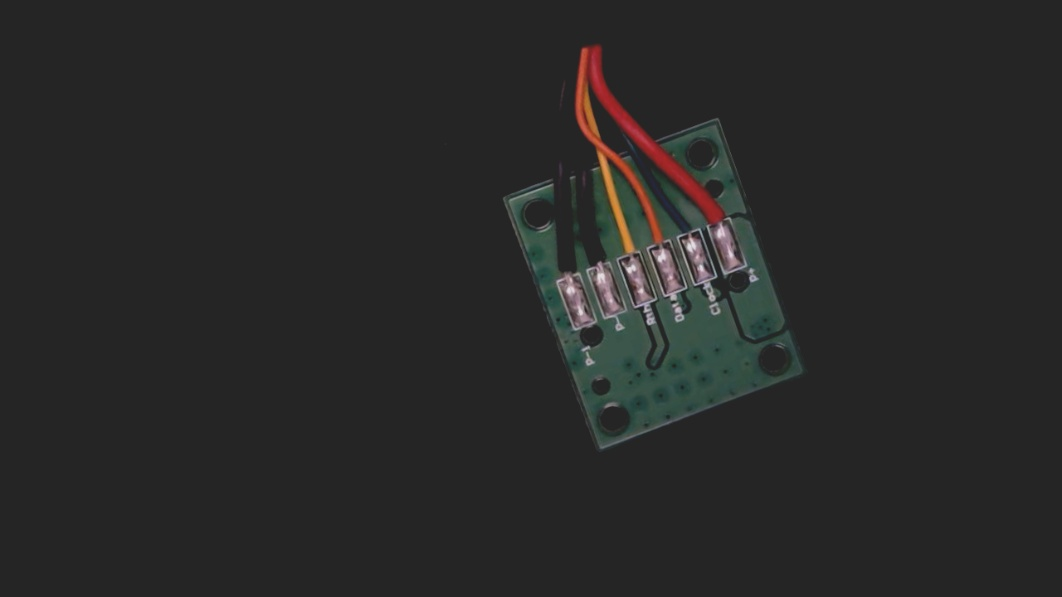Black: (570, 216, 617, 283)
Black1: (541, 233, 585, 294)
Green: (659, 189, 705, 254)
Orange: (630, 198, 675, 263)
Red: (690, 174, 736, 238)
Yellow: (599, 207, 646, 274)
